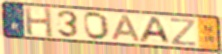3: (56, 10, 80, 39)
A: (137, 16, 173, 46), (110, 14, 142, 43)
H: (23, 6, 55, 39)
O: (83, 11, 111, 41)
Z: (169, 17, 197, 48)
